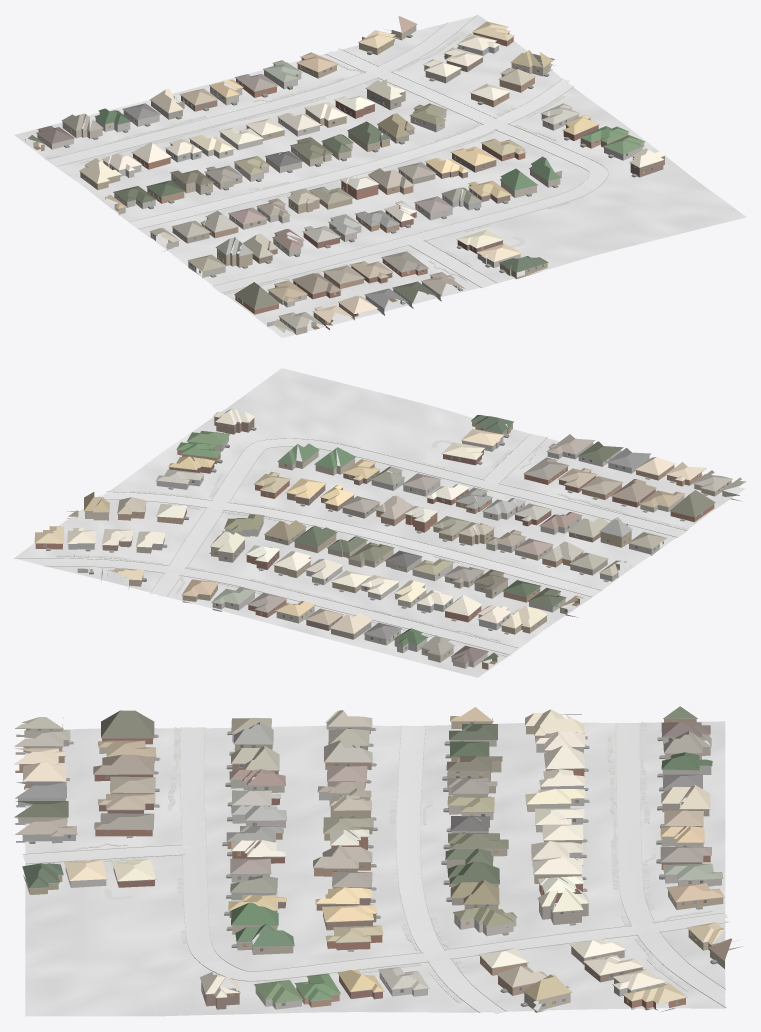
The picture shows the model from 3 angles, top to bottom: view 1: azimuth 30°, elevation 25°; view 2: azimuth 150°, elevation 25°; view 3: azimuth 270°, elevation 25°; orthographic projection. The views are drawn at different scales.
Visible parts, largest first — view 1: ground, roof, concrete, wall, detail, wall_stucco, curb, wall_stone, walk, glass; view 2: ground, roof, concrete, wall, detail, wall_stucco, curb, wall_stone, walk, glass; view 3: ground, roof, concrete, wall, detail, walk, wall_stucco, curb, wall_stone, glass.
Boxes of the visible parts, x1,y1,x2,y2 form: ground: (14,15,746,337); roof: (28,16,665,332); concrete: (48,17,608,292); wall: (41,25,664,335); detail: (25,24,665,329); wall_stucco: (37,42,555,315); curb: (48,14,608,294); wall_stone: (95,64,644,308); walk: (45,32,569,294); glass: (71,39,652,328); ground: (14,368,745,677); roof: (34,408,746,663); concrete: (22,434,686,654); wall: (35,417,731,669); detail: (35,416,734,667); wall_stucco: (66,442,741,668); curb: (14,434,687,656); wall_stone: (156,436,621,653); walk: (56,440,689,656); glass: (43,421,728,653); ground: (25,721,725,1016); roof: (14,706,731,1003); concrete: (23,723,729,1013); wall: (15,719,742,1011); detail: (14,714,739,1007); walk: (52,722,712,1003); wall_stucco: (16,717,710,1012); curb: (23,723,727,1012); wall_stone: (15,744,721,1009); glass: (26,718,706,1006).
Bounding box in the file's own units: 261 × 16.86 × 262.
